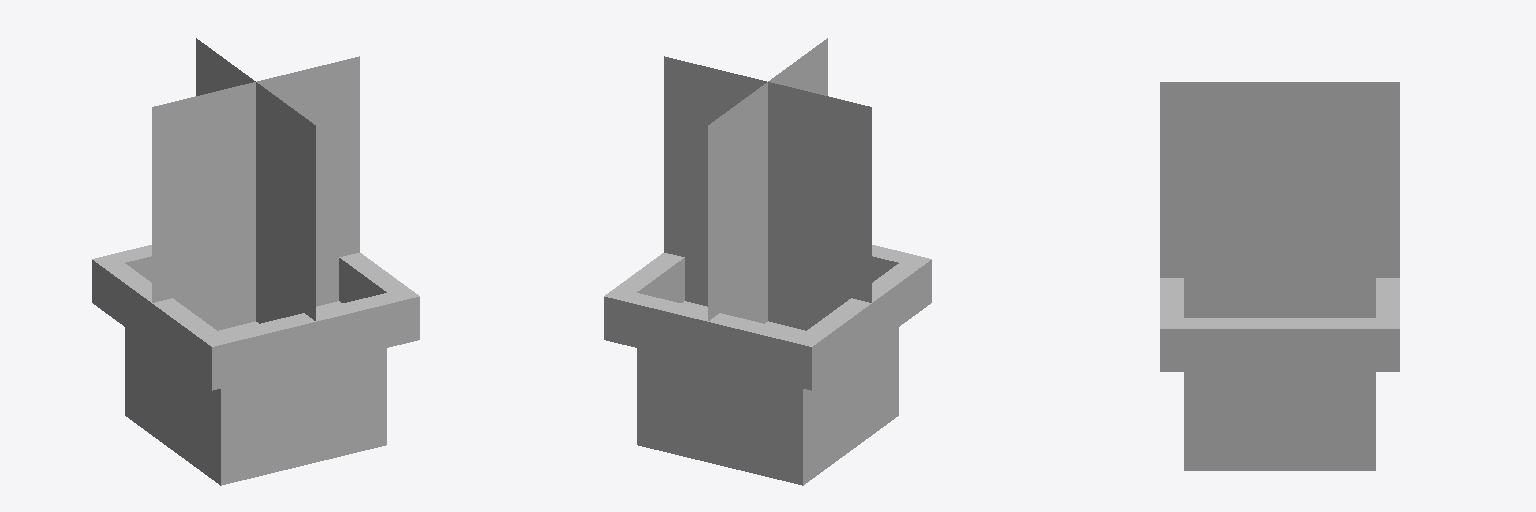
File: potz_pot.obj
The picture shows the model from 3 angles: view 1: azimuth 30°, elevation 25°; view 2: azimuth 150°, elevation 25°; view 3: azimuth 270°, elevation 25°; orthographic projection.
Visible parts, largest first — view 1: converted_out; view 2: converted_out; view 3: converted_out.
Boxes of the visible parts, <box> form: converted_out: <box>92,38,419,485</box>; converted_out: <box>604,38,931,485</box>; converted_out: <box>1160,82,1399,470</box>.
Size of the model in its own units: 0.625 by 1 by 0.625.